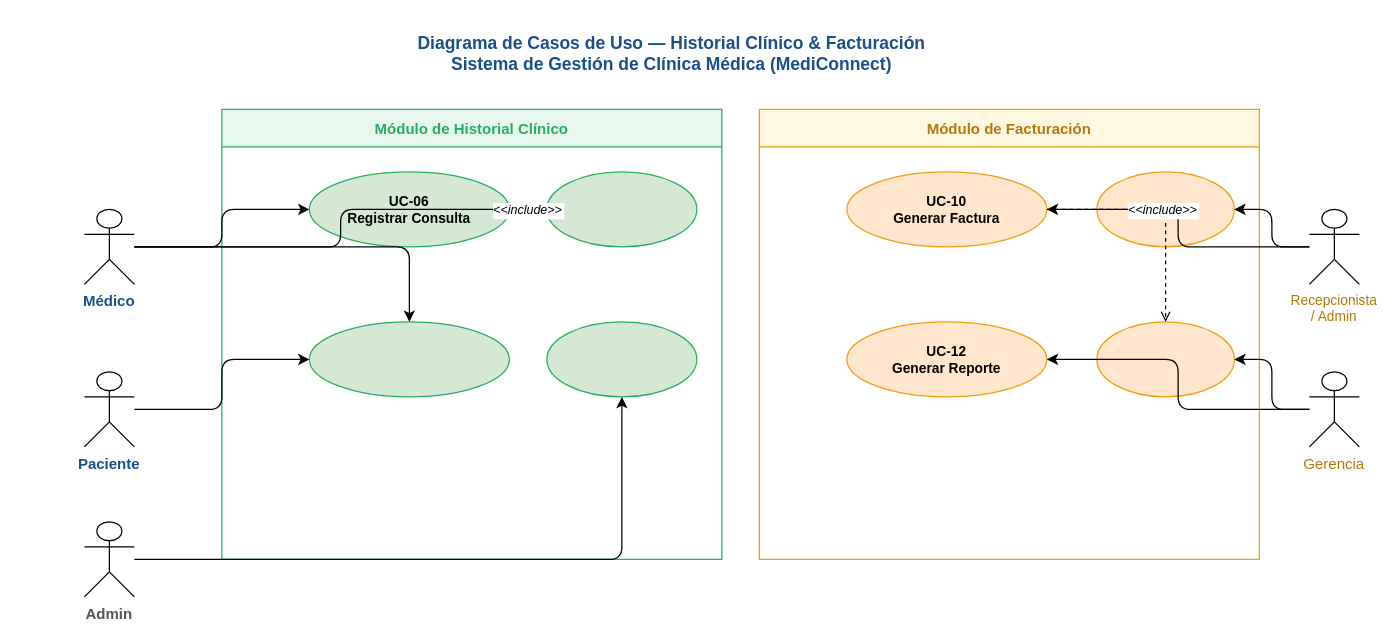
Image size: 1400x644. Some labels were removed from this diagram. The shapes that lost their labels are listed below. From the top down, each one's centre as x and y in pixels, then its label:
[621,209]: UC-07 Emitir Receta
[1165,209]: UC-11 Registrar Pago
[408,359]: UC-08 Ver Historial
[621,359]: UC-09 Adjuntar Resultados
[1165,359]: UC-13 Descargar PDF Factura
